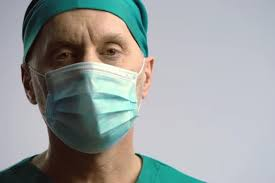mask: (21, 1, 149, 148)
